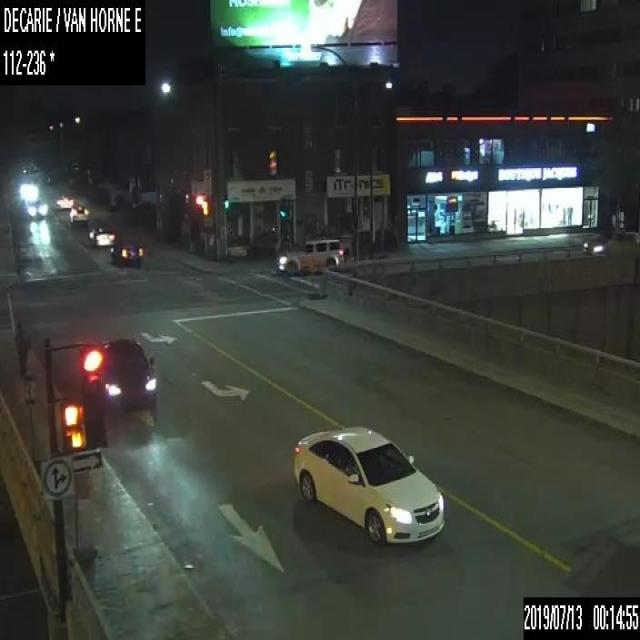construction: (69, 468, 97, 564), (19, 372, 44, 476)
pedestrian: (12, 318, 29, 374)
vehicle: (292, 423, 444, 544), (98, 337, 156, 412), (274, 236, 344, 275), (582, 222, 639, 254), (110, 239, 144, 265), (88, 222, 113, 246), (69, 202, 88, 223), (28, 200, 46, 218), (54, 193, 72, 209)
